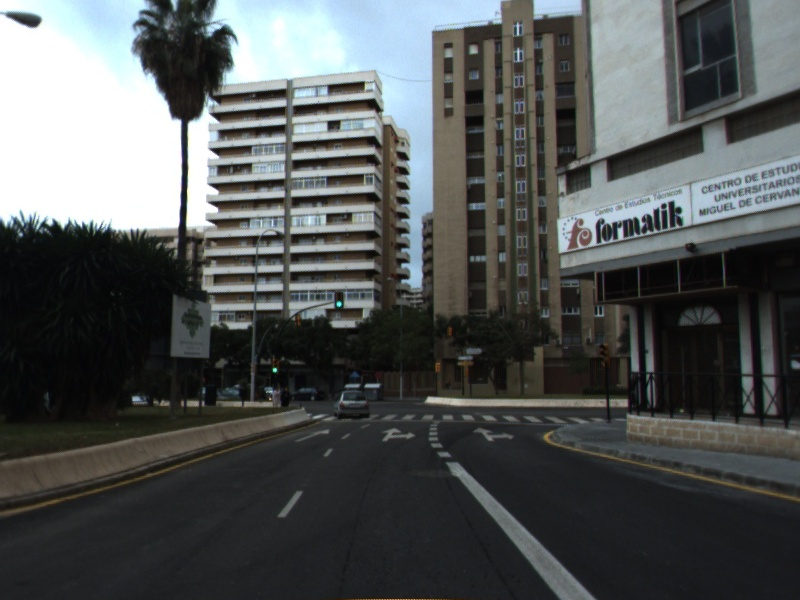STRAIGHT: (293, 427, 331, 444)
STRAIGHT_RIGHT: (470, 425, 517, 443), (379, 425, 418, 443)
